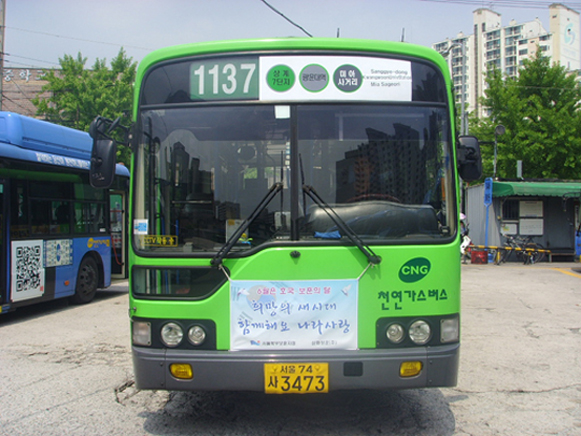bnum: (187, 57, 260, 100)
